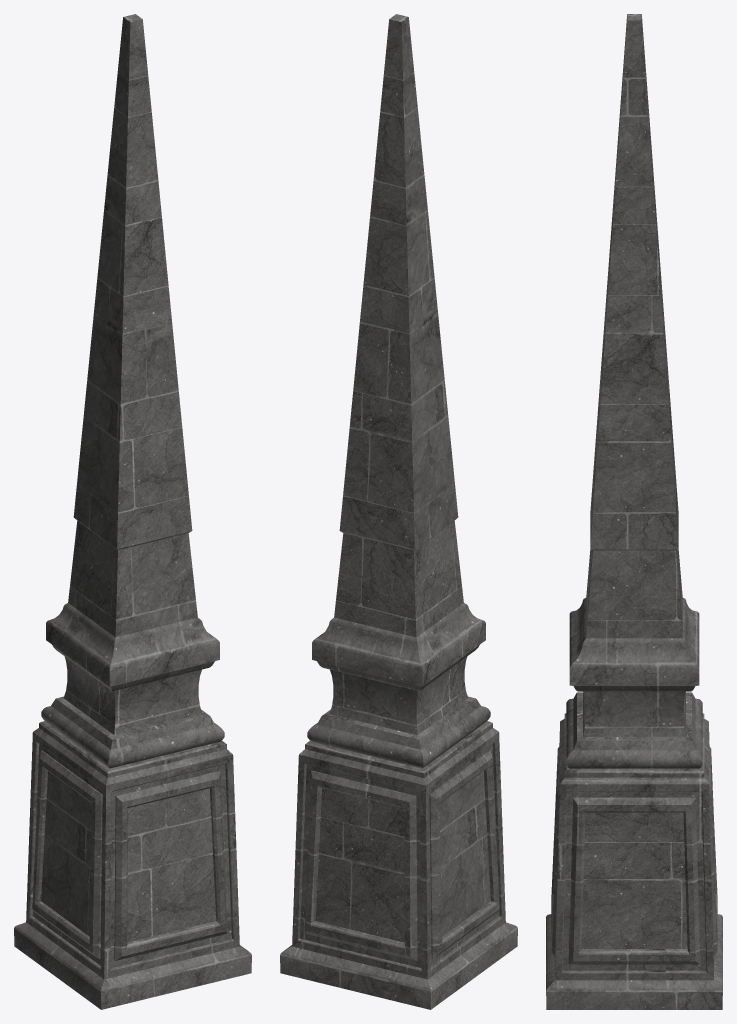
Rendered from column.glb.
The picture shows the model from 3 angles, left to right: view 1: azimuth 30°, elevation 25°; view 2: azimuth 150°, elevation 25°; view 3: azimuth 270°, elevation 25°; orthographic projection.
Parts seen in each view (by area): view 1: Obelisk_0; view 2: Obelisk_0; view 3: Obelisk_0.
Part boxes in pixels (x1=…): Obelisk_0: x1=14, y1=14, x2=251, y2=1009; Obelisk_0: x1=280, y1=14, x2=517, y2=1009; Obelisk_0: x1=546, y1=14, x2=722, y2=1009.
Bounding box in the file's own units: 2.52 × 15.03 × 2.52.
Materials: 1 (1 with a texture image).
